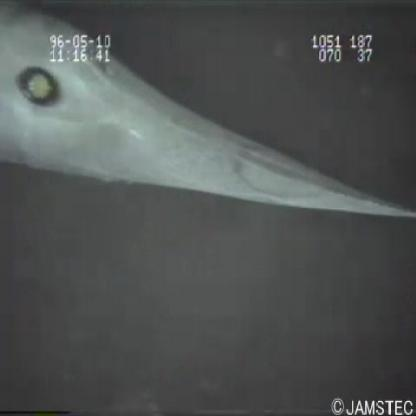Bio: (7, 1, 415, 223)
